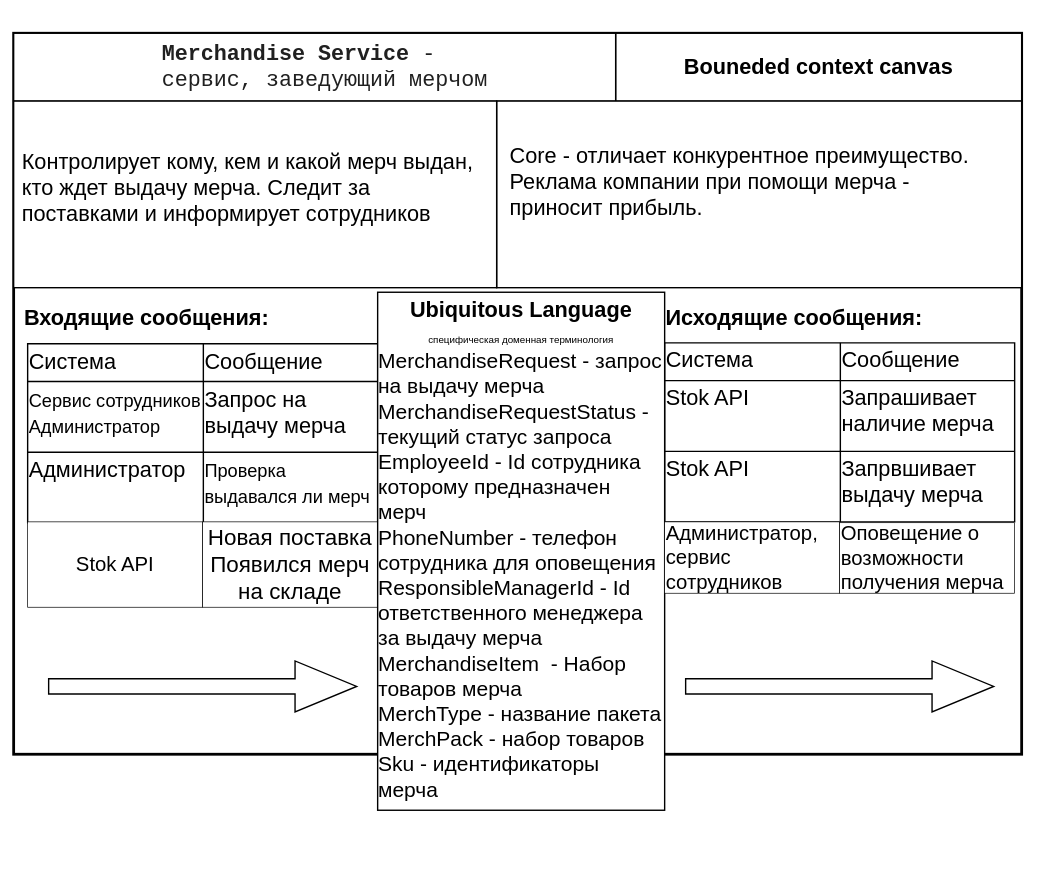
The diagram is 1047 pixels wide and 893 high, and some of its shapes have lost their labels. The box of each missing label's shape, as (x1, y1, x2, y2) in pixels:
Название:: (13, 32, 616, 101)
Описание:: (13, 100, 497, 288)
Стратегическая классификация:: (496, 100, 1022, 288)
